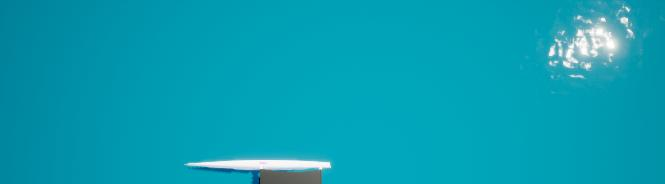boat: (180, 155, 336, 184)
land_base: (525, 1, 665, 93)
